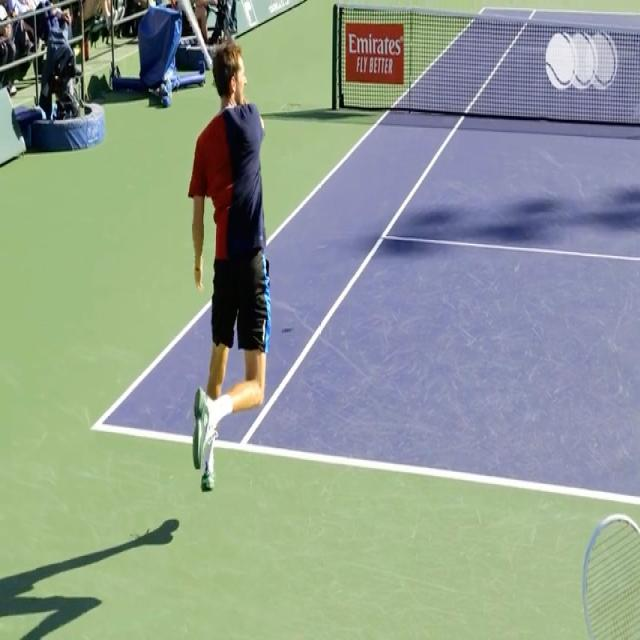forehand-finish: (187, 1, 275, 492)
